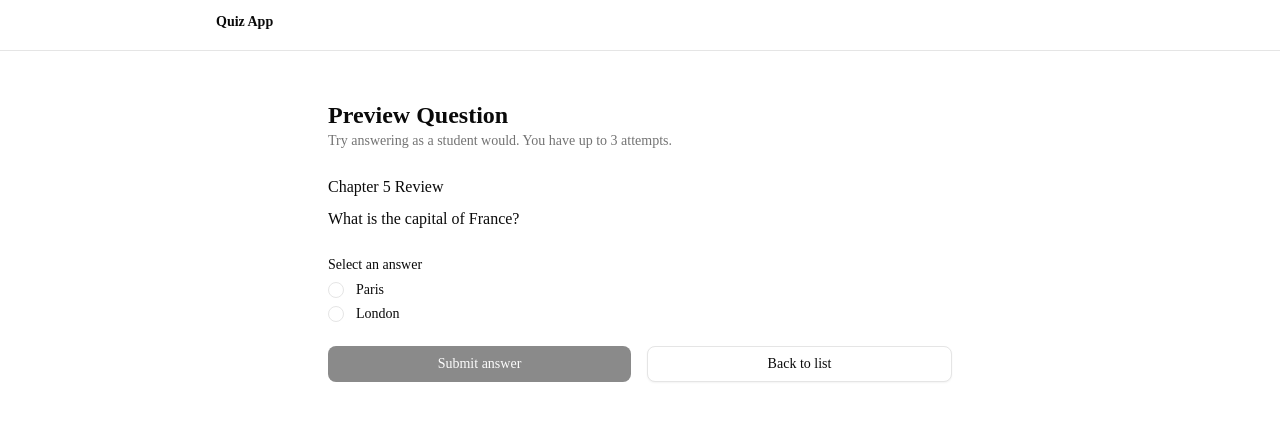
McqPreview › shows correct feedback on the third attempt when the answer is right
Click the radio button named "Paris" next to "Paris": [336, 290] box [328,282,344,298]
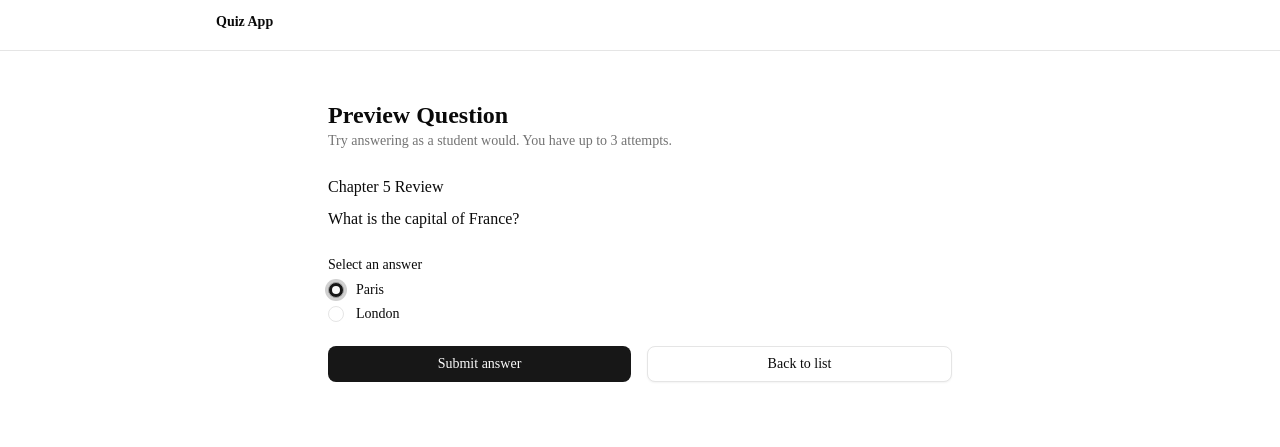
Click the button "Submit answer": [480, 364] box [328,346,631,382]
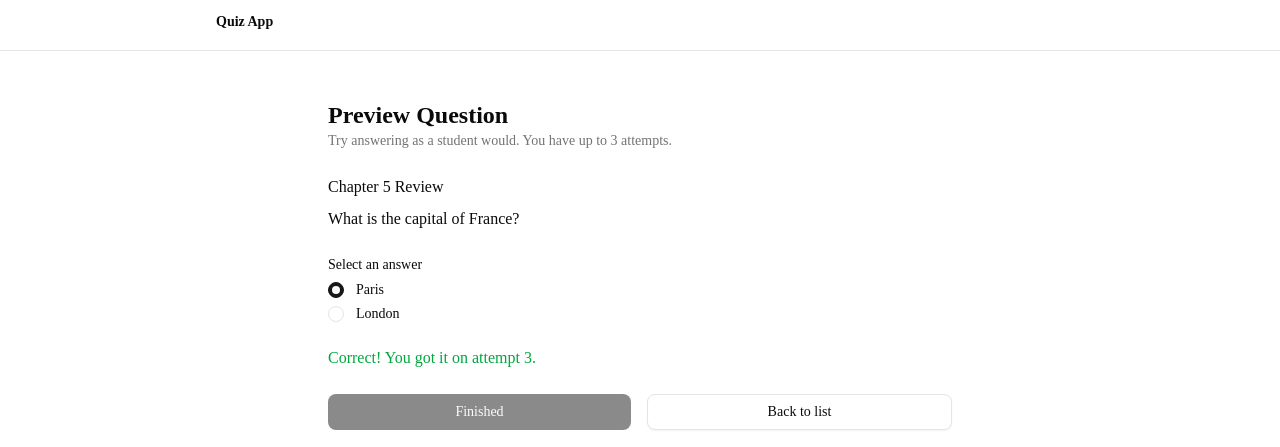
Expected: the text "Correct! You got it on attempt 3." is shown, [328,349,536,366]
